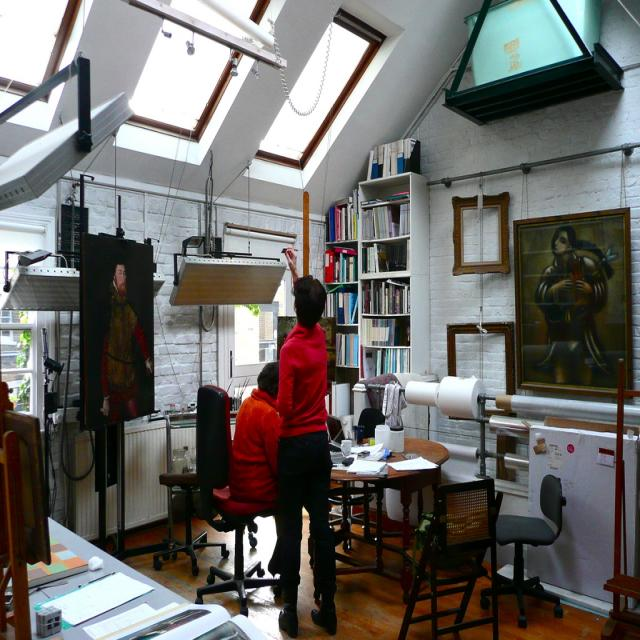not_ride_motorcycle: (278, 245, 337, 636)
